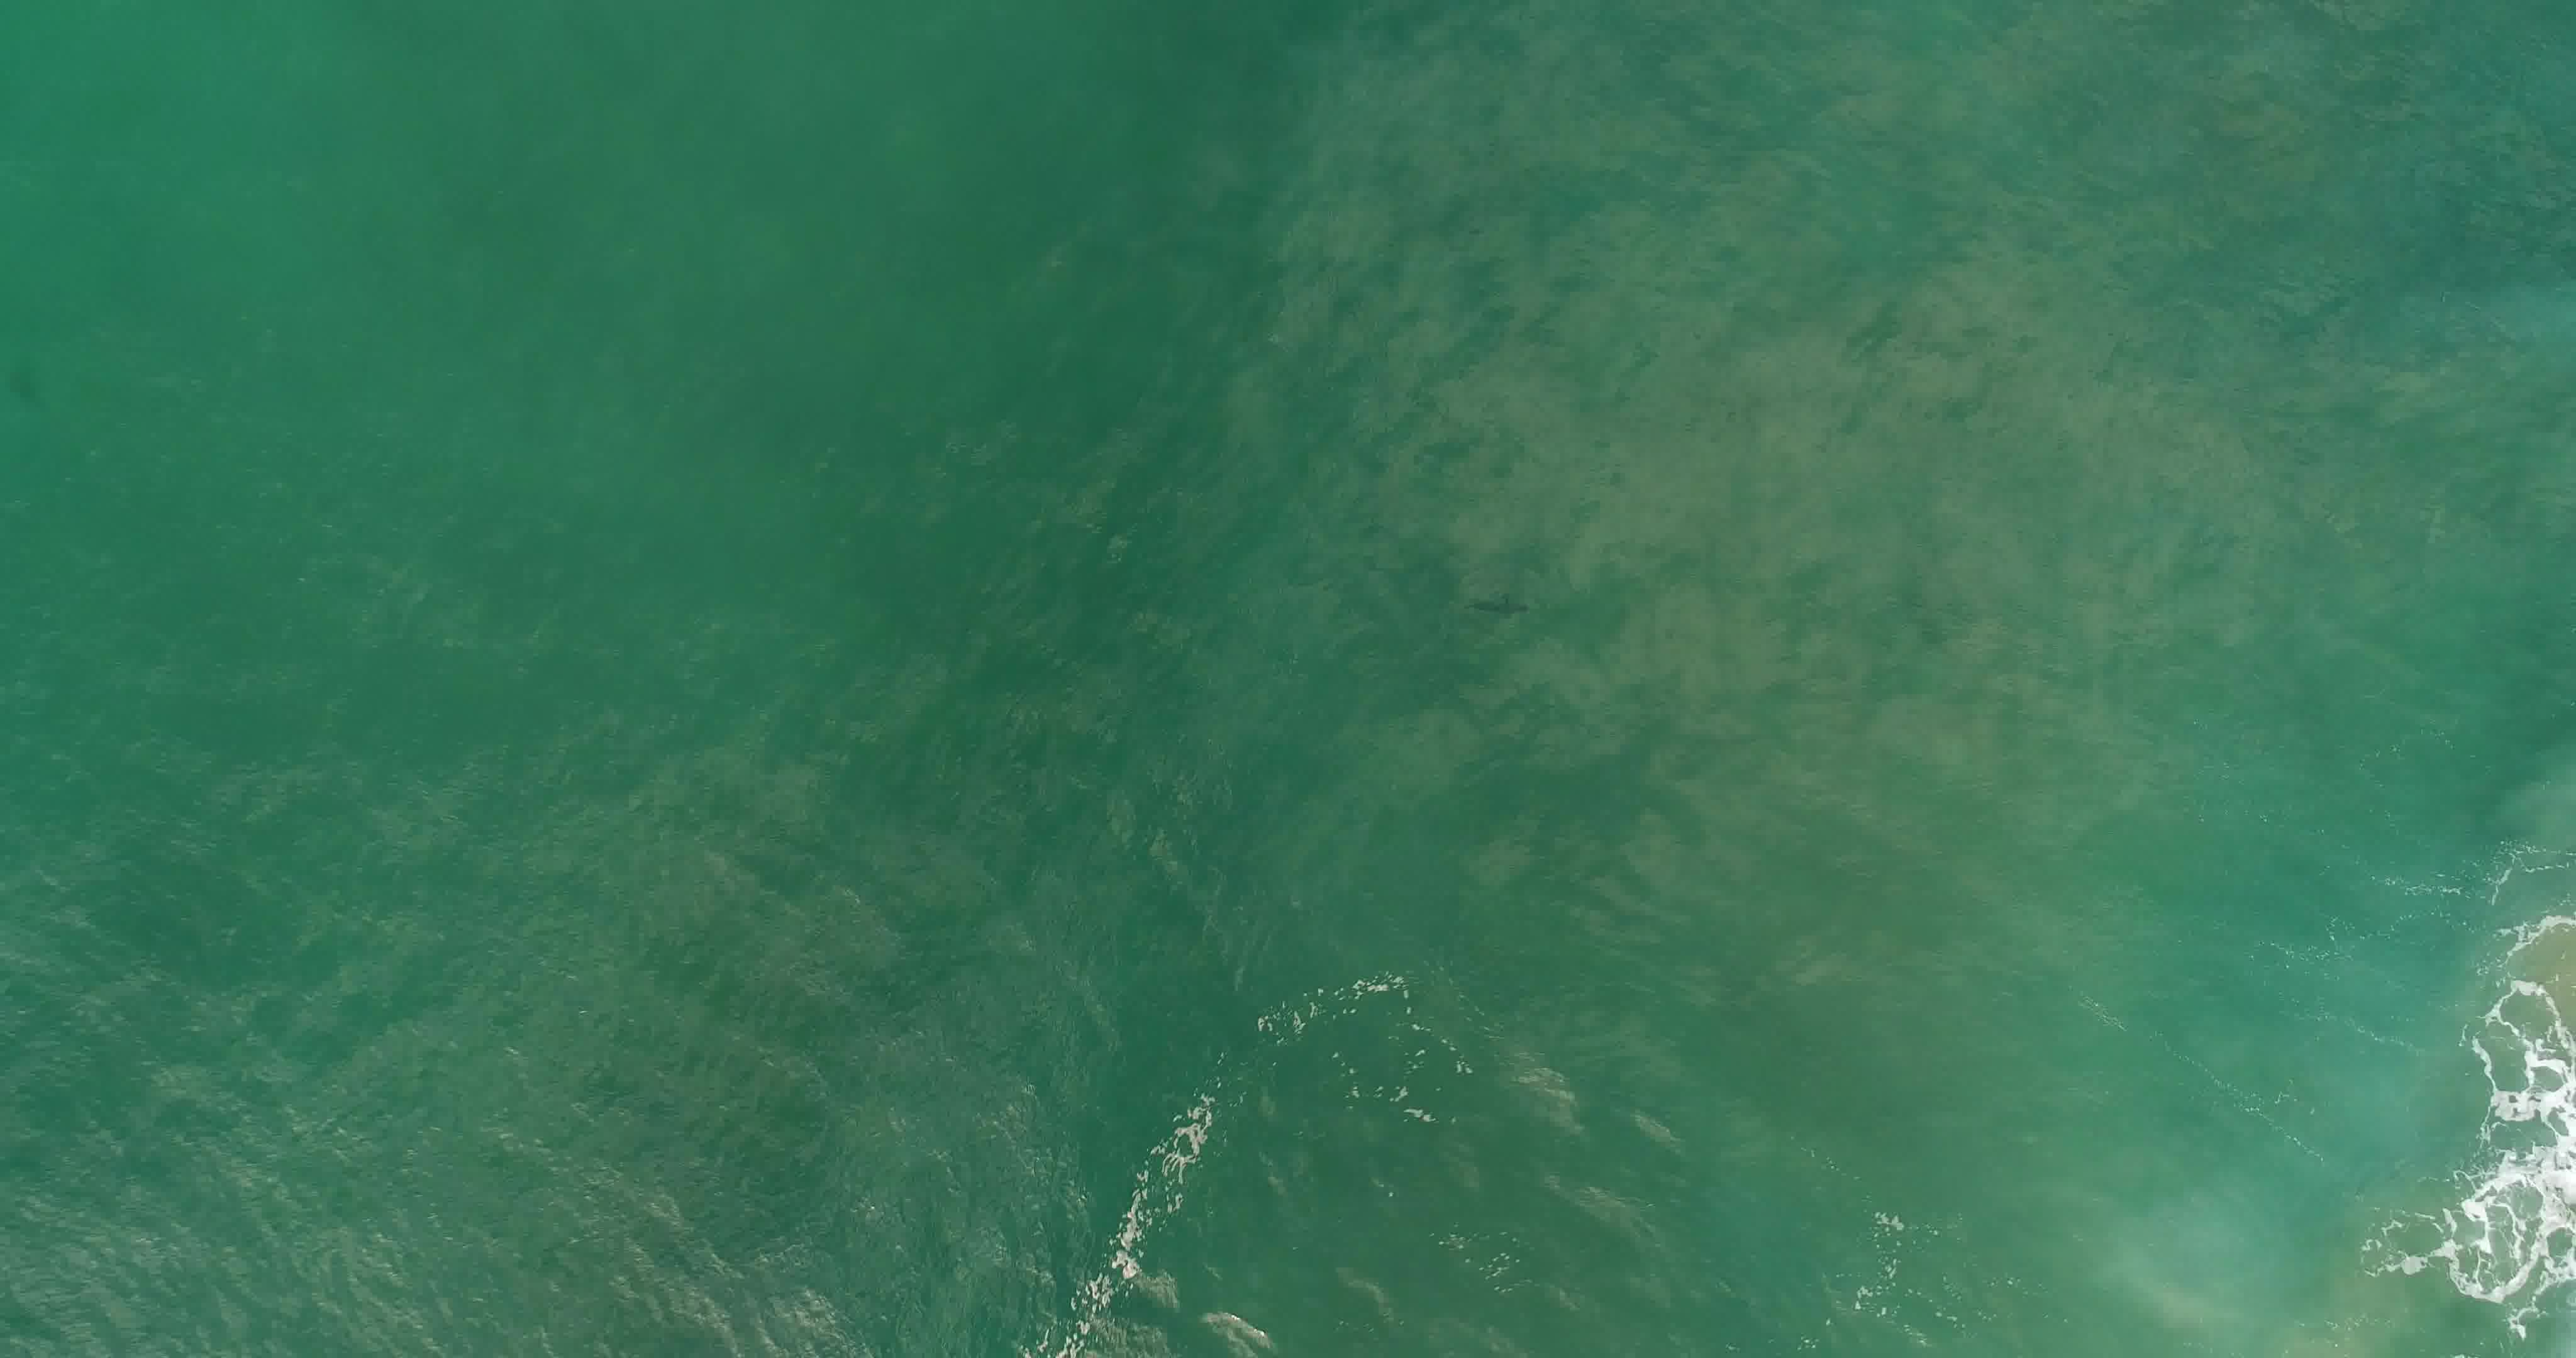shark: (1465, 596, 1535, 622)
